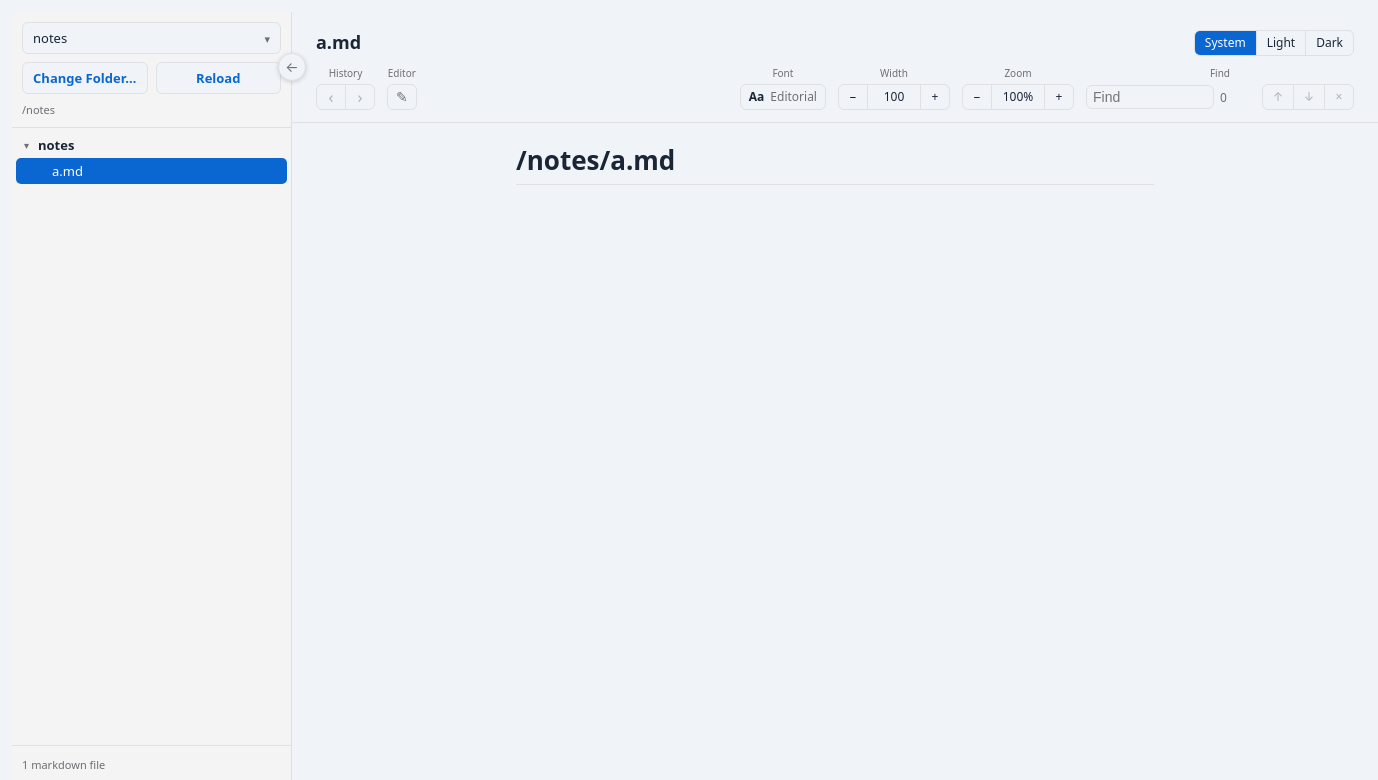
it: closes the right-click menu on Escape
The image size is (1378, 780).
Click the button with aria-label "Recent folders": click(152, 38) [22,22,281,54]
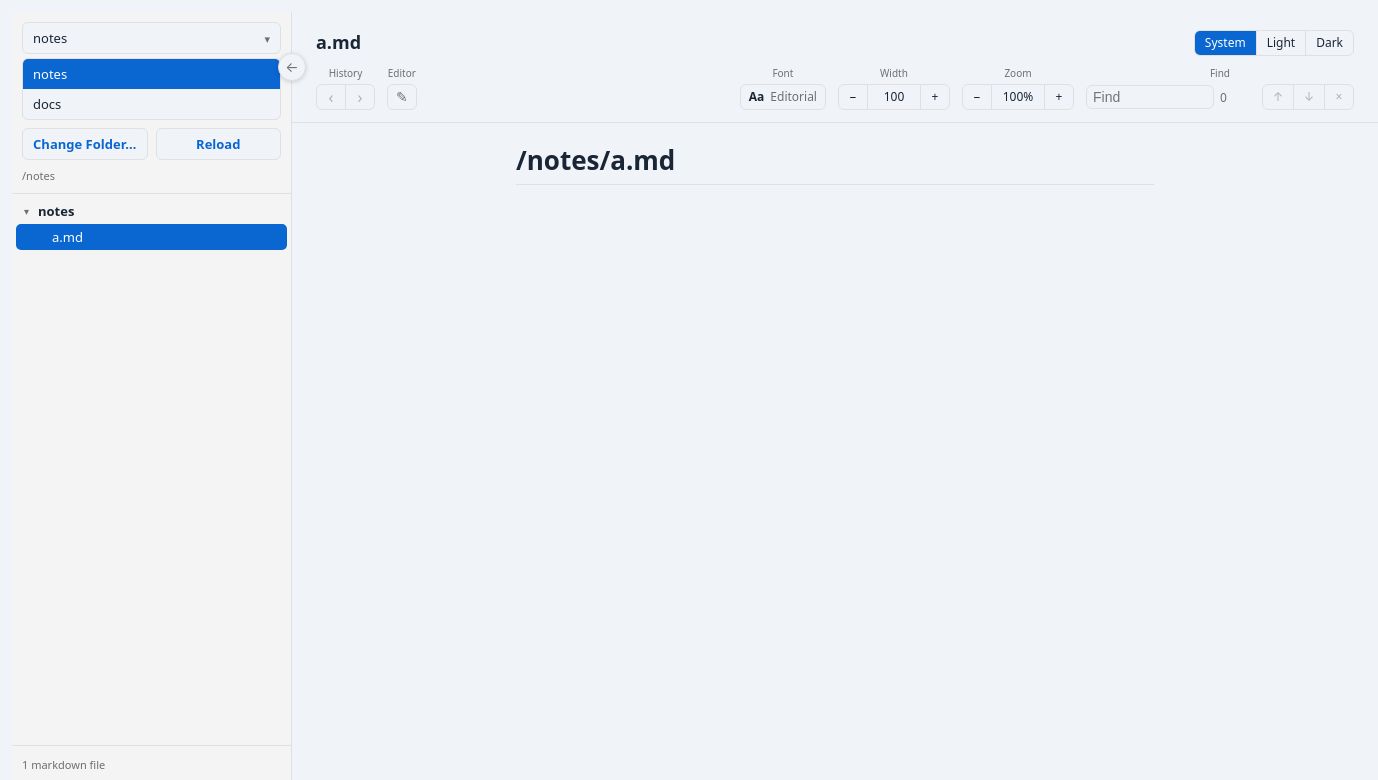
Right-click the menu item with aria-label "/docs": (152, 104) [23,89,280,119]
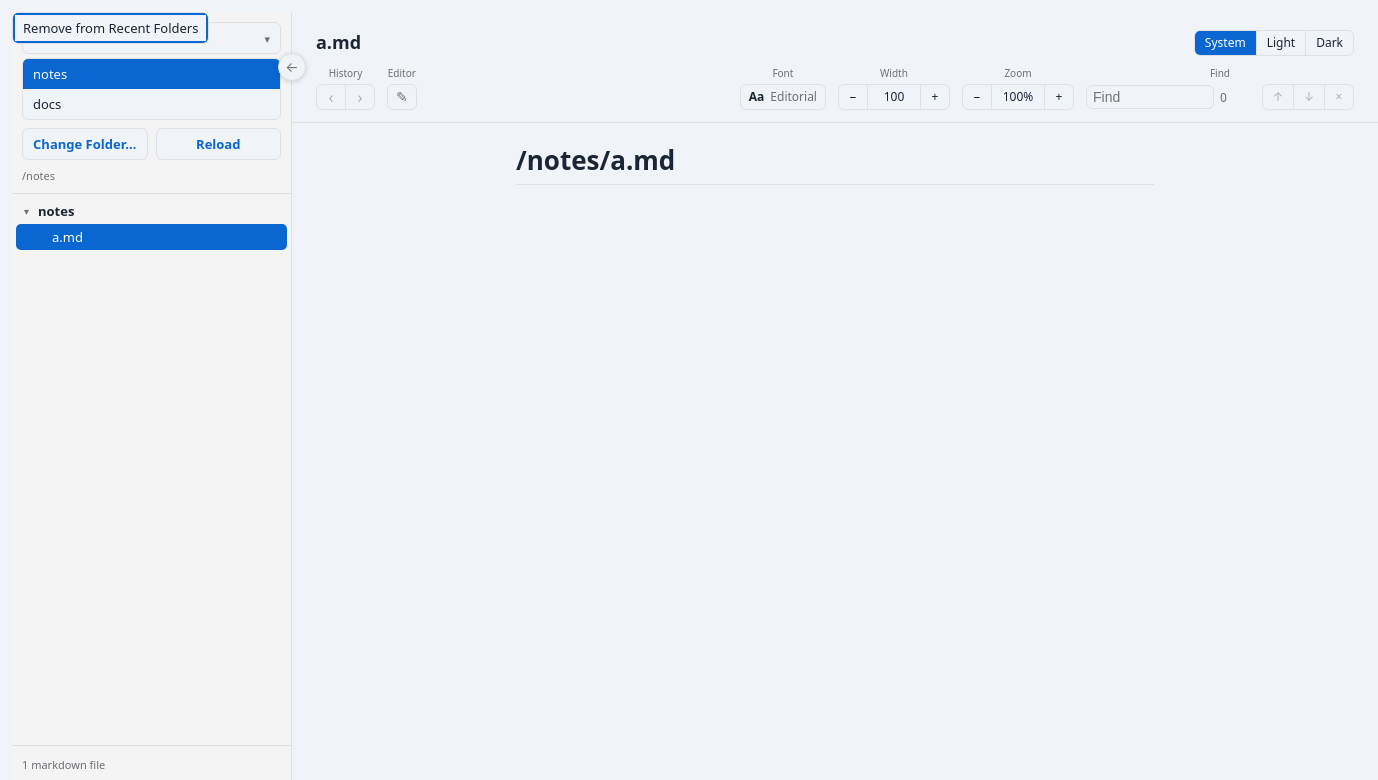
Press Escape
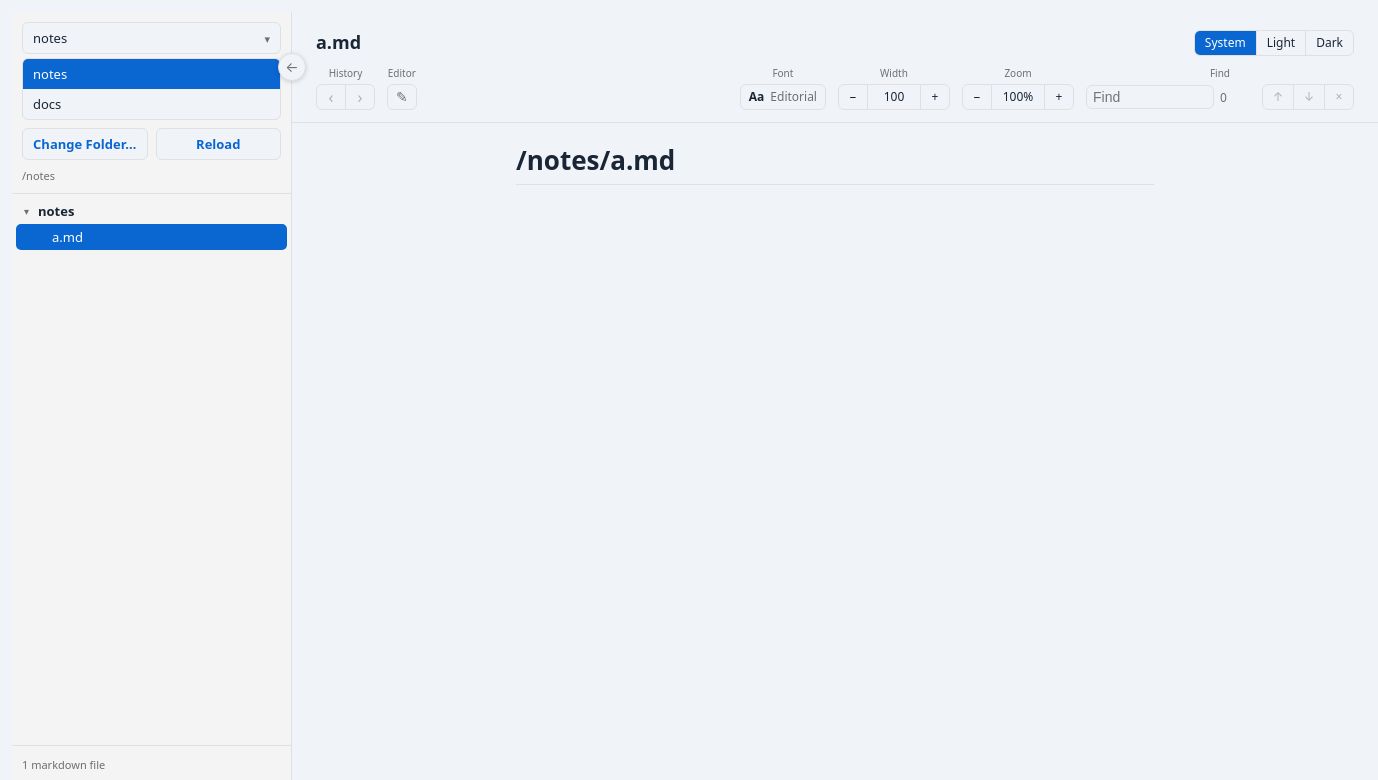
Now the menu item with aria-label "/docs" is shown, box [23,89,280,119]
Now the menu item "Remove from Recent Folders" is gone
